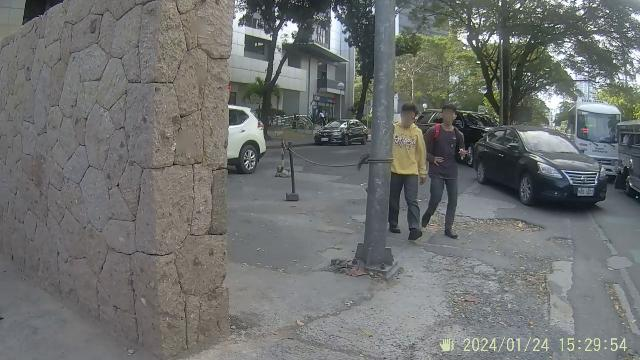car: (468, 121, 608, 221), (211, 103, 265, 165), (310, 120, 372, 148)
utility_post: (352, 3, 400, 279)
